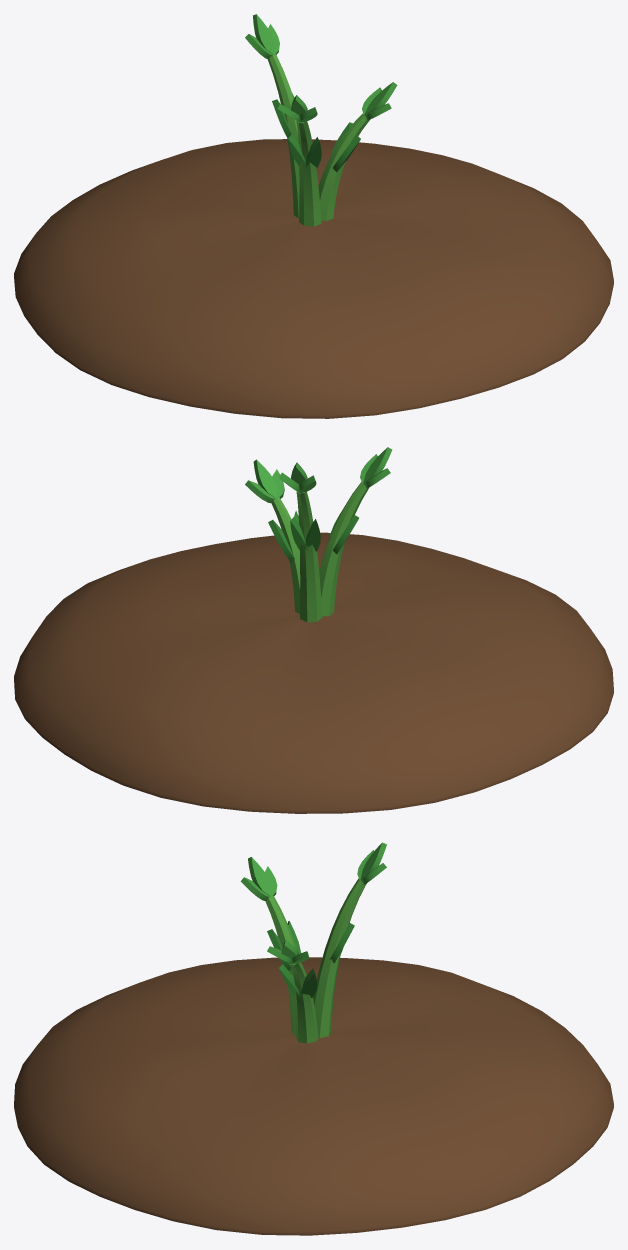
The picture shows the model from 3 angles, top to bottom: view 1: azimuth 30°, elevation 25°; view 2: azimuth 150°, elevation 25°; view 3: azimuth 270°, elevation 25°; orthographic projection.
Parts seen in each view (by area): view 1: body; view 2: body; view 3: body.
Part boxes in pixels (box(x1,y1,x2,y2)): body: box(14, 14, 613, 418); body: box(14, 447, 613, 813); body: box(14, 842, 613, 1235).
Bounding box in the file's own units: 0.26 × 0.1221 × 0.26.
Materials: 1 (1 with a texture image).
